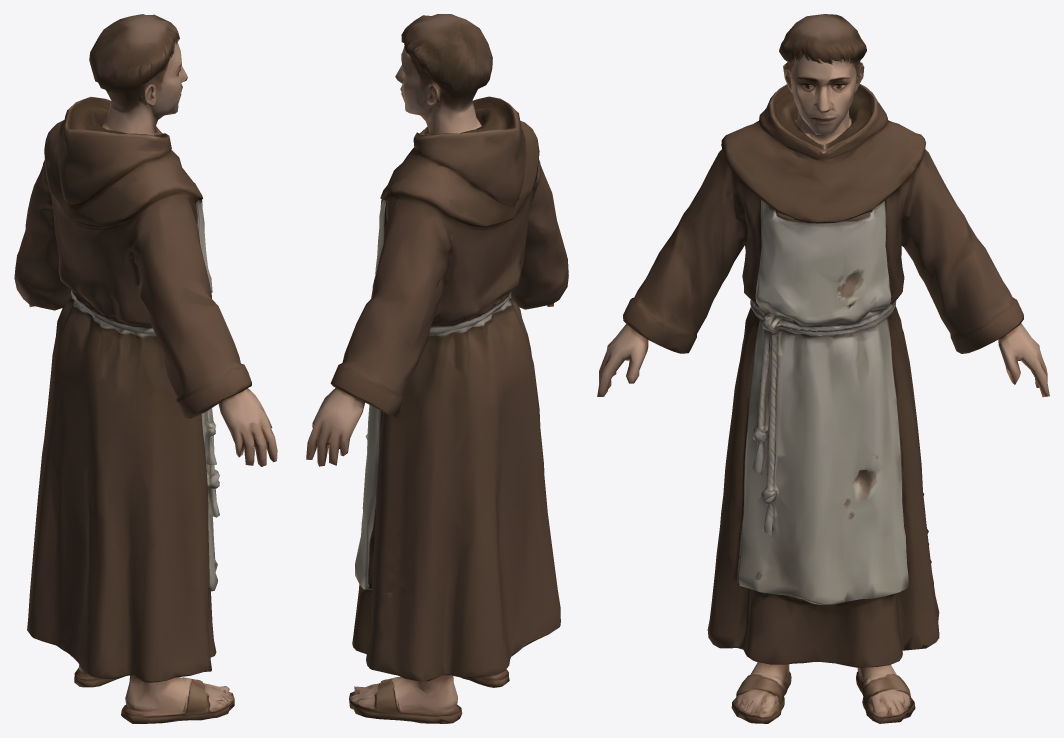
The model's file is 94d36a2b-4146-48b5-9373-0a17bfaf72a8_model_url.glb.
3 renders of one model, left to right at view 1: azimuth 30°, elevation 25°; view 2: azimuth 150°, elevation 25°; view 3: azimuth 270°, elevation 25°, orthographic.
Parts seen in each view (by area): view 1: tripo_node_94d36a2b-4146-48b5-9373-0a17bfaf72a8; view 2: tripo_node_94d36a2b-4146-48b5-9373-0a17bfaf72a8; view 3: tripo_node_94d36a2b-4146-48b5-9373-0a17bfaf72a8.
Part boxes in pixels (box(x1,y1,x2,y2)): tripo_node_94d36a2b-4146-48b5-9373-0a17bfaf72a8: box(14, 14, 277, 723); tripo_node_94d36a2b-4146-48b5-9373-0a17bfaf72a8: box(306, 14, 568, 723); tripo_node_94d36a2b-4146-48b5-9373-0a17bfaf72a8: box(597, 14, 1049, 723).
Size of the model in its own units: 0.2403 by 1 by 0.6061.
1 material, 1 textured.
